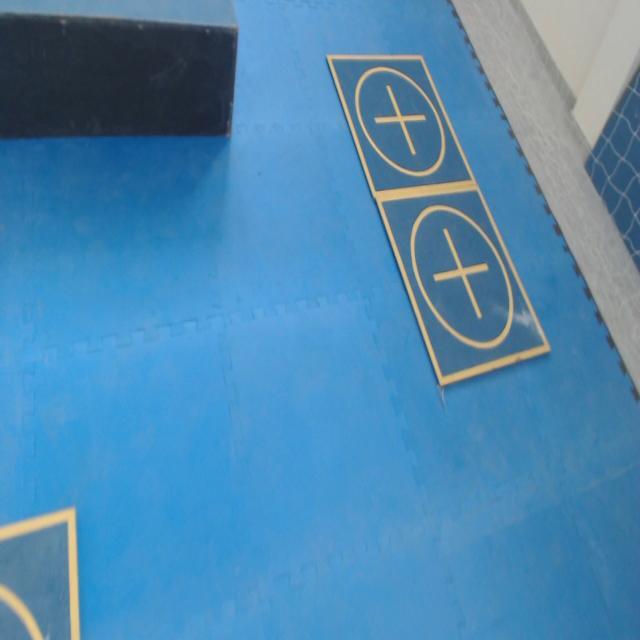base_pouso: (374, 184, 553, 389), (327, 55, 476, 196), (1, 502, 79, 639)
